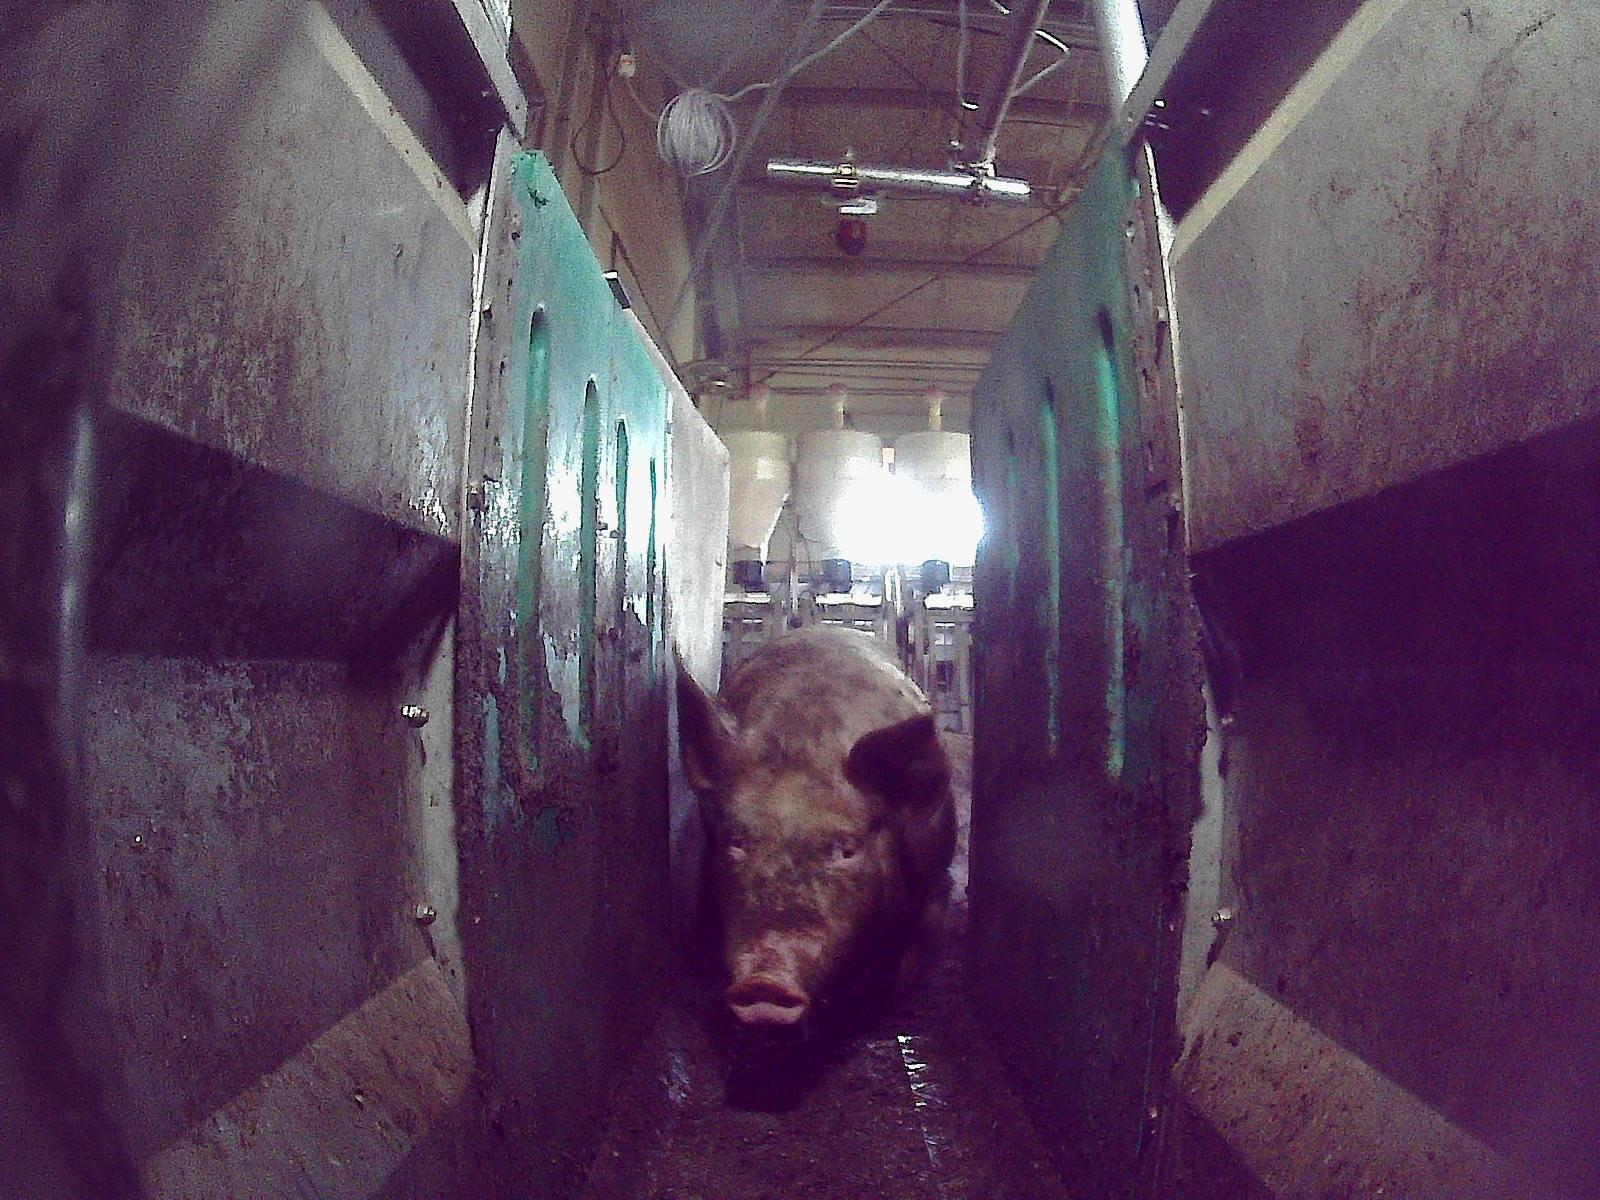Face: (709, 764, 892, 1025)
